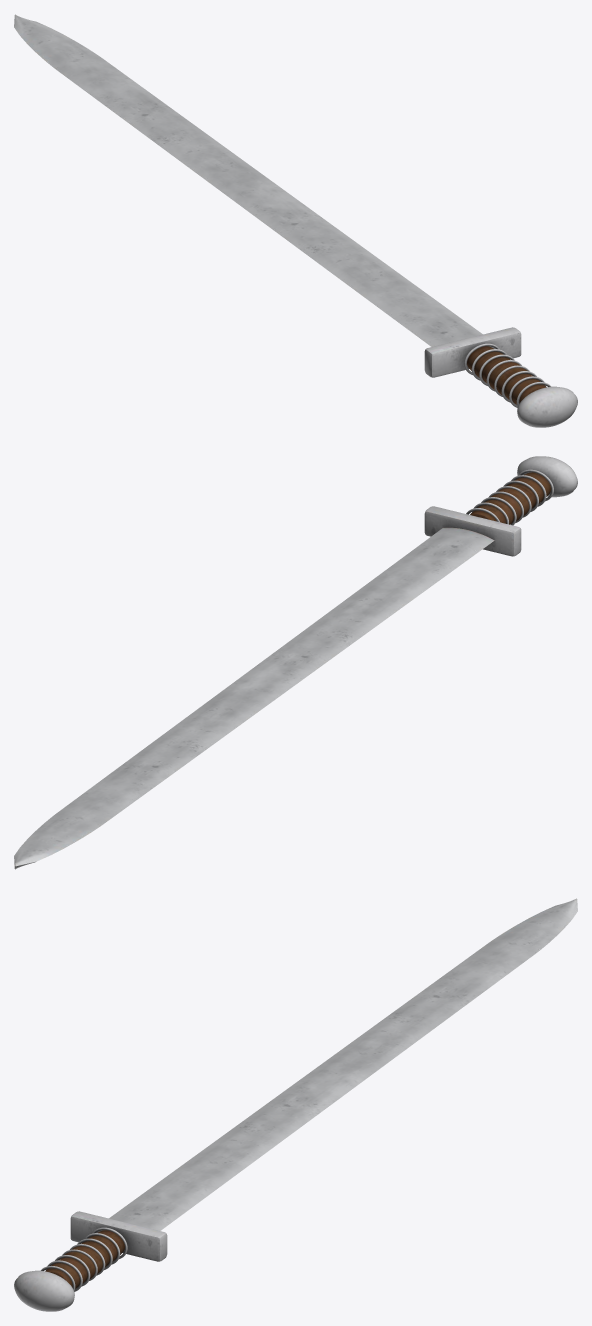
The model's file is lazic_sword.glb.
The picture shows the model from 3 angles, top to bottom: view 1: azimuth 30°, elevation 25°; view 2: azimuth 150°, elevation 25°; view 3: azimuth 330°, elevation 25°; orthographic projection.
Parts seen in each view (by area): view 1: lazic_sword; view 2: lazic_sword; view 3: lazic_sword.
Boxes of the visible parts, box(x1,y1,x2,y2) form: lazic_sword: box(14, 14, 577, 427); lazic_sword: box(14, 456, 577, 869); lazic_sword: box(14, 898, 577, 1311).
Bounding box in the file's own units: 0.088 × 0.0332 × 0.906.
Materials: 1 (1 with a texture image).
